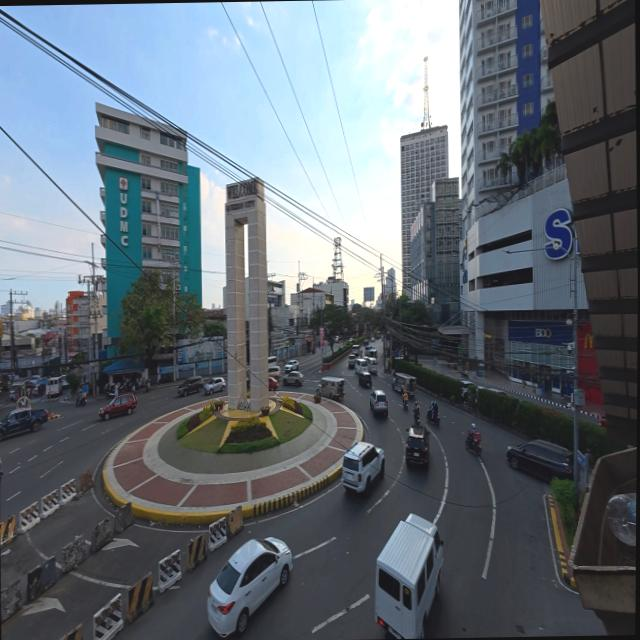Jeepneys: (317, 377, 344, 400), (392, 373, 416, 397)
car: (207, 538, 292, 636), (507, 441, 573, 480), (342, 442, 384, 492), (0, 409, 47, 442), (406, 425, 430, 469), (99, 393, 136, 420), (178, 376, 204, 397), (370, 390, 388, 416), (204, 377, 226, 394), (283, 372, 303, 387), (10, 382, 26, 400), (462, 380, 474, 402), (358, 372, 372, 387), (284, 359, 299, 372), (487, 387, 508, 396), (268, 365, 280, 379), (268, 377, 278, 390), (597, 414, 606, 427), (348, 354, 355, 368), (362, 337, 369, 346), (348, 338, 354, 343), (375, 334, 381, 339), (370, 337, 375, 342)
motorcycle: (466, 432, 482, 456), (426, 408, 439, 425), (139, 378, 150, 392), (413, 409, 420, 424), (76, 397, 86, 407), (461, 369, 469, 378), (0, 458, 3, 481), (403, 399, 408, 410)
vans: (375, 514, 443, 638), (49, 377, 62, 397), (354, 357, 369, 374), (367, 356, 378, 374), (268, 356, 276, 366)
